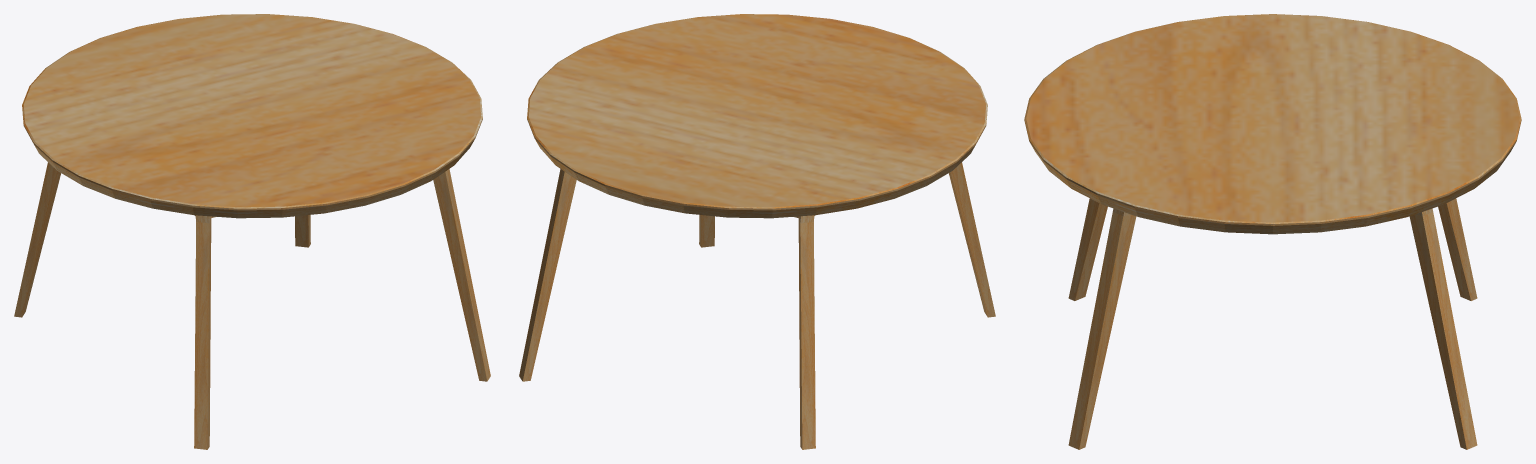
File: uploads_files_3021890_Dining+Table.glb
3 renders of one model, left to right at view 1: azimuth 30°, elevation 25°; view 2: azimuth 150°, elevation 25°; view 3: azimuth 270°, elevation 25°, orthographic. The views are drawn at different scales.
Visible parts, largest first — view 1: Table top, Legs; view 2: Table top, Legs; view 3: Table top, Legs.
Part boxes in pixels (x1,y1,x2,y2): Table top: (22, 14, 482, 218); Legs: (14, 162, 490, 449); Table top: (527, 14, 987, 218); Legs: (519, 162, 995, 449); Table top: (1024, 14, 1521, 234); Legs: (1068, 198, 1477, 449).
Size of the model in its own units: 0.9946 by 0.56 by 0.9946.
Materials: 1 (1 with a texture image).
